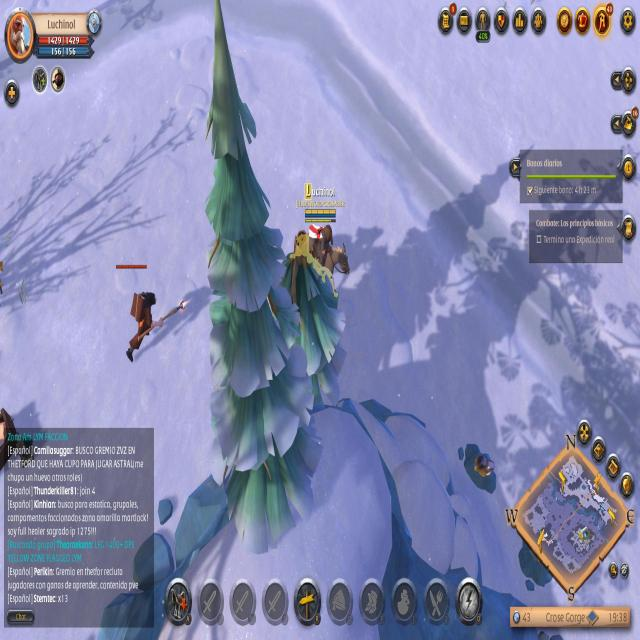piedra_cobre: (462, 442, 496, 493)
